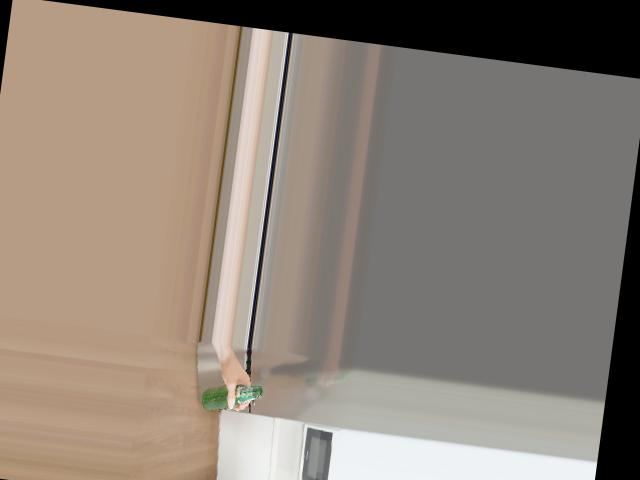beer: (199, 377, 263, 416)
